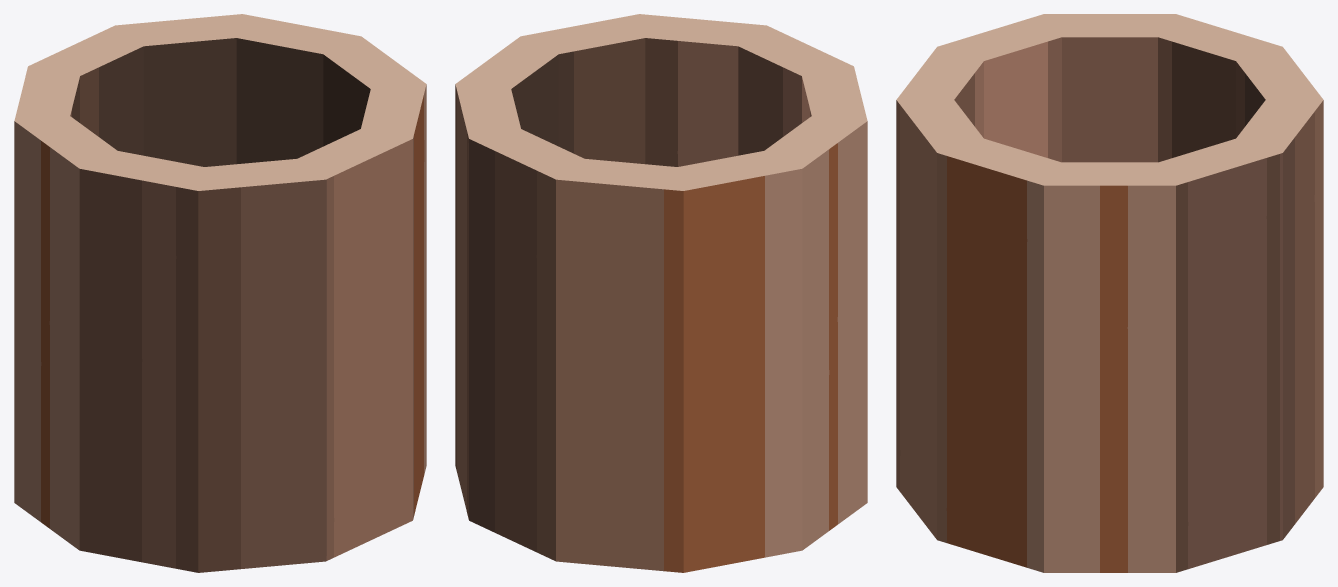
File: cup_628x02.gltf
The picture shows the model from 3 angles, left to right: view 1: azimuth 30°, elevation 25°; view 2: azimuth 150°, elevation 25°; view 3: azimuth 270°, elevation 25°; orthographic projection.
Visible parts, largest first — view 1: cup_628x02; view 2: cup_628x02; view 3: cup_628x02.
Part boxes in pixels (x1,y1,x2,y2): cup_628x02: (14,14,426,572); cup_628x02: (455,14,867,572); cup_628x02: (896,14,1323,572).
Bounding box in the file's own units: 0.3804 × 0.4 × 0.4.
Materials: 1 (1 with a texture image).
